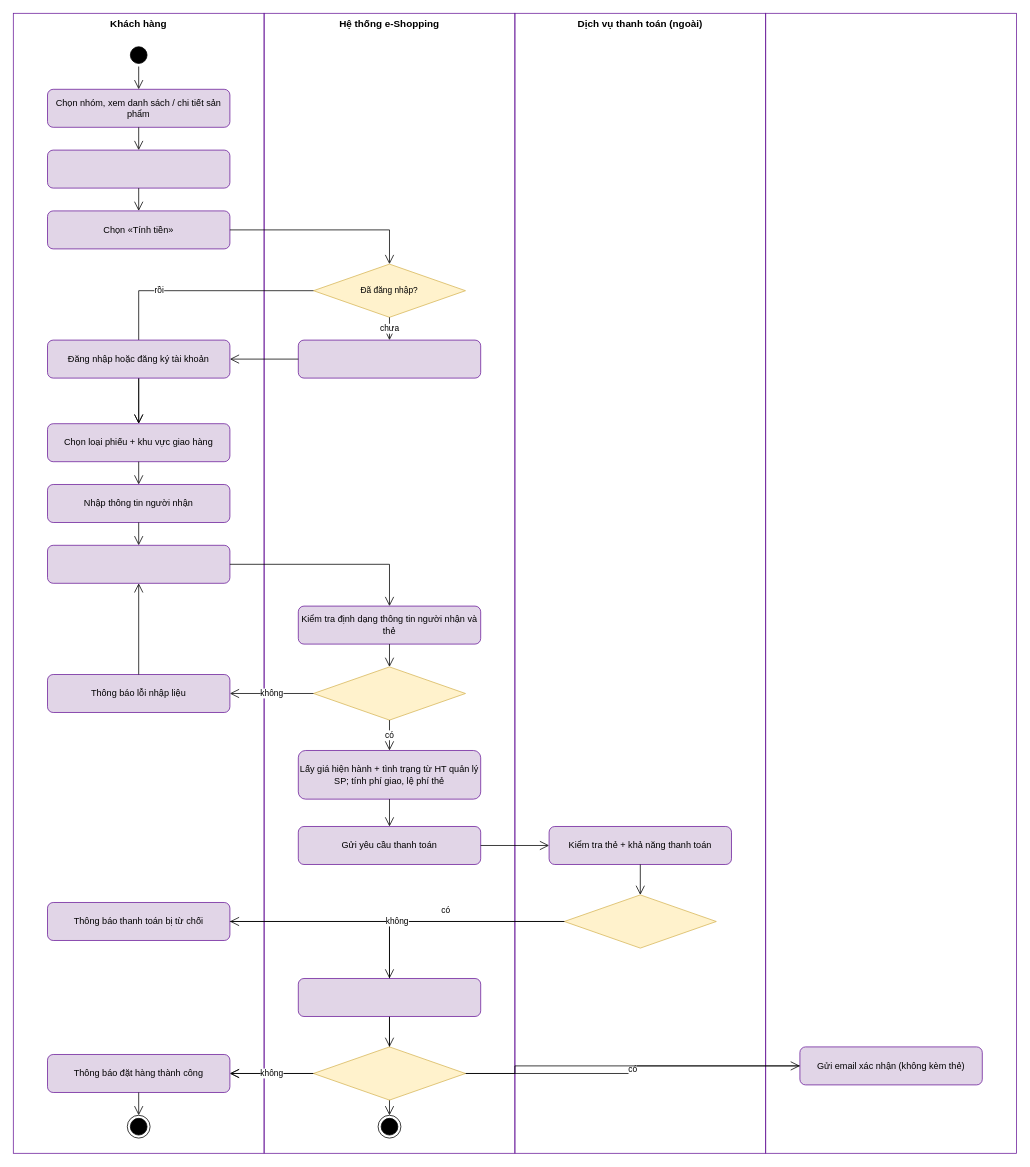
This 1030x1167 diagram has some shape labels left out. Here are the shapes that lost their labels. From the top down, the box of each, then its label:
(47, 149, 230, 188): Thêm vào giỏ; xem / cập nhật giỏ hàng
(298, 339, 481, 378): Yêu cầu đăng nhập / đăng ký
(47, 545, 230, 583): Nhập thẻ tín dụng, bấm «Xác nhận»
(765, 13, 1016, 1153): Dịch vụ email (ngoài)
(313, 666, 466, 720): Hợp lệ?
(564, 894, 716, 948): Chấp nhận?
(298, 978, 481, 1016): Ghi nhận đơn đặt hàng (Orders, OrderItem, log thanh toán)
(313, 1046, 466, 1100): Có email?
